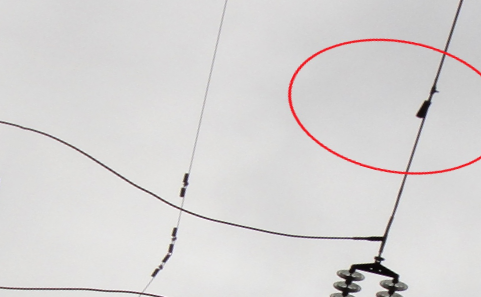damper: (150, 254, 172, 277), (166, 226, 180, 254), (177, 171, 190, 199)
damper_defect: (414, 76, 439, 119)
